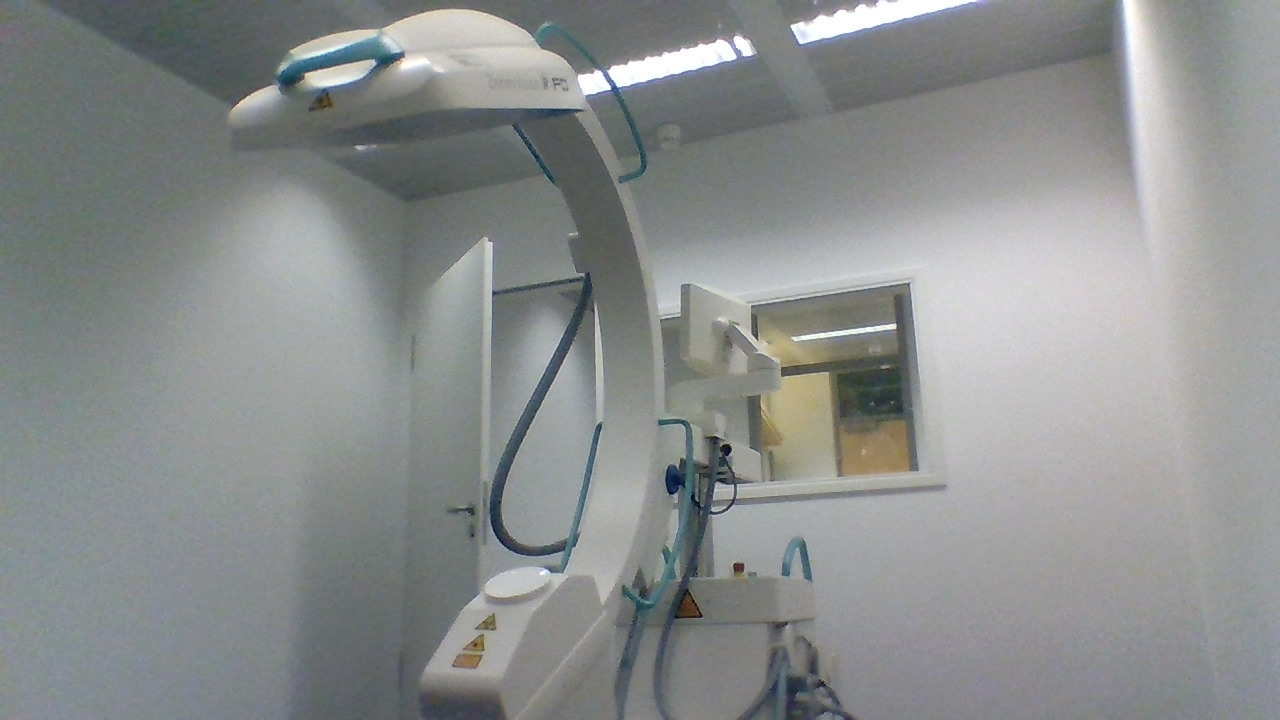carmBACK: (743, 569, 759, 578)
carmDOWN: (416, 566, 606, 716)
carmLOCK: (664, 464, 679, 497)
carmSCREEN: (680, 287, 753, 376)
carmUP: (226, 8, 586, 160)
